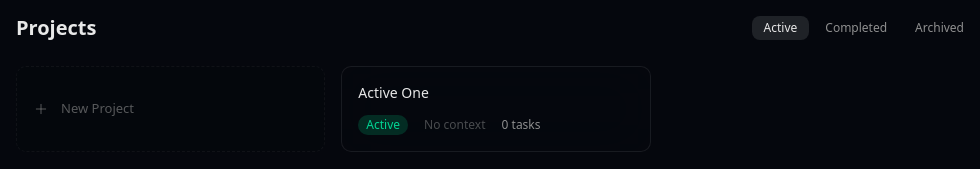
Test: ProjectsOverviewView › tab navigation › hides active content when non-active tab is selected
The width and height of the screenshot is (980, 169).
Click the button with test id "projects-tab-completed". click: (856, 28)
box: x1=813 y1=16 x2=899 y2=40
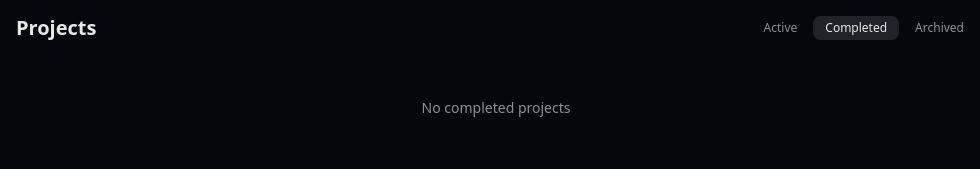
expect the button "Active One" is gone: met
expect the button with test id "new-project-trigger" is gone: met
